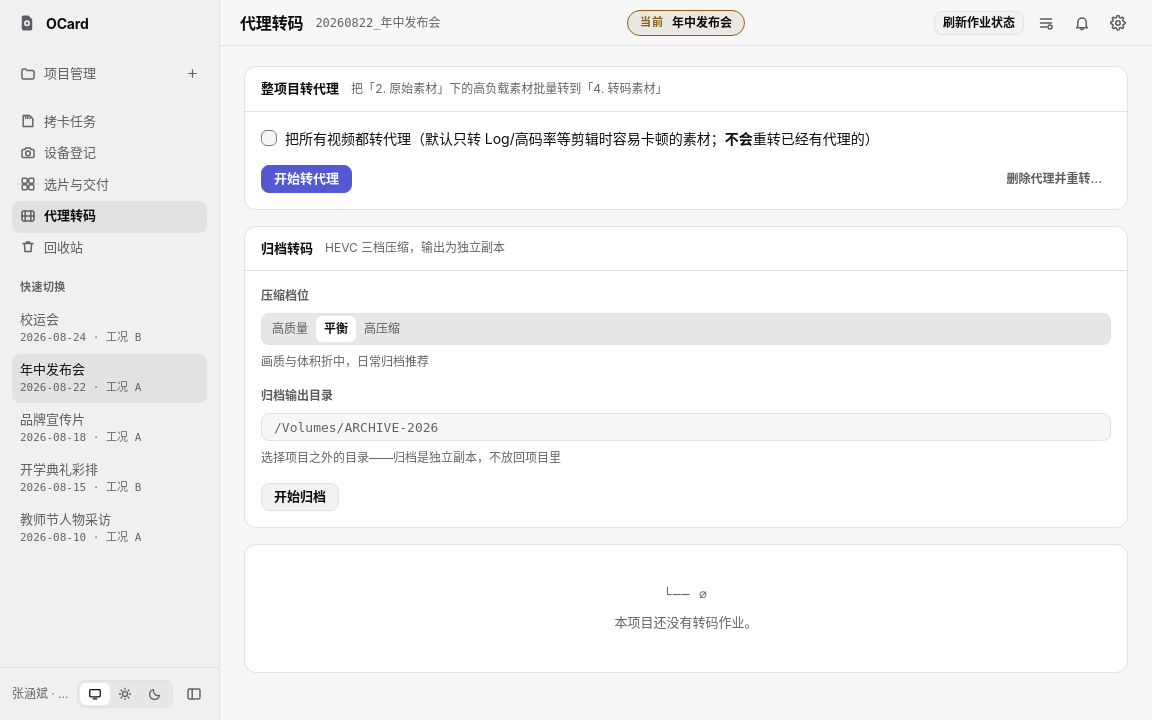
Test: 作业生命周期 › #P2 结果计数 testid 内含数值，E2E 可直接断言
Step 1. Click the button with test id "transcode-start" → (306, 178), box [261,164,352,192]
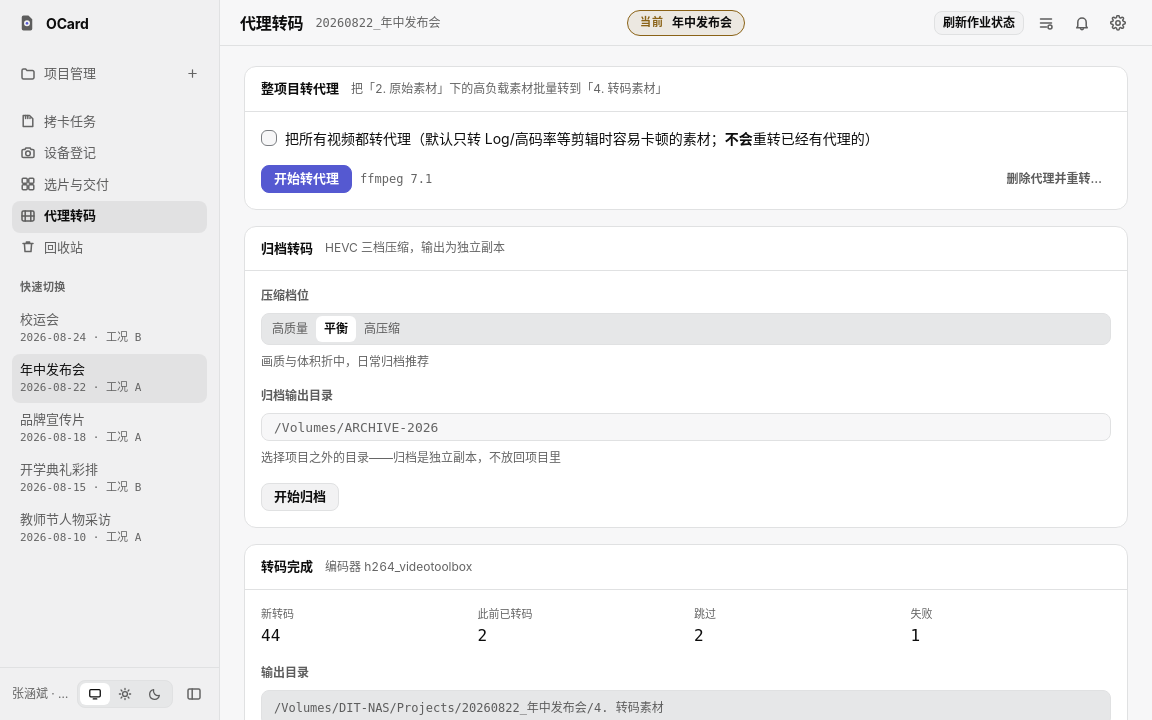
Now the text with test id "transcode-converted" reads "44", box [261,626,280,645]
Now the text with test id "transcode-already" reads "2", box [478,626,487,645]
